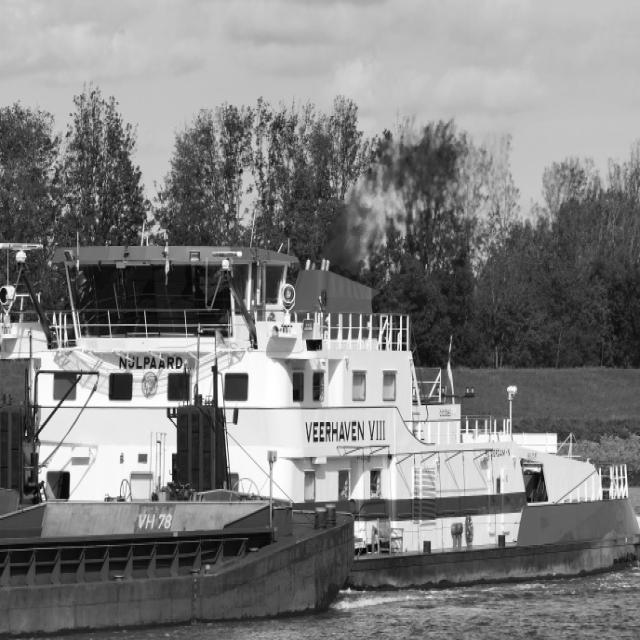tugboat: (1, 227, 640, 599)
